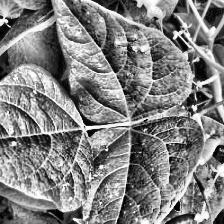Bean Rust: (37, 0, 188, 125), (0, 62, 93, 211), (79, 115, 206, 224)
